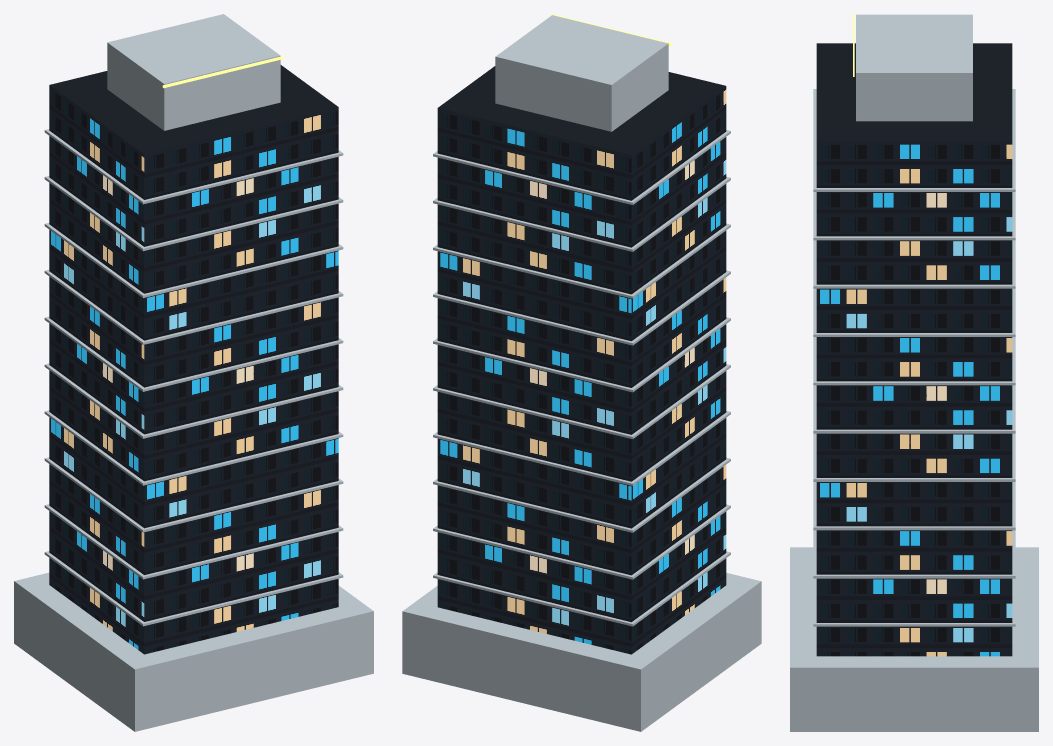
File: apartment_tower_b.glb
3 views of the same model, side by side, from view 1: azimuth 30°, elevation 25°; view 2: azimuth 150°, elevation 25°; view 3: azimuth 270°, elevation 25° (orthographic). The views are drawn at different scales.
Visible parts, largest first — view 1: tower; view 2: tower; view 3: tower.
Part boxes in pixels (x1,y1,x2,y2): tower: (14,14,373,731); tower: (402,14,761,731); tower: (790,14,1038,731).
Size of the model in its own units: 32 by 78 by 28.
Materials: 3 (1 with a texture image).
